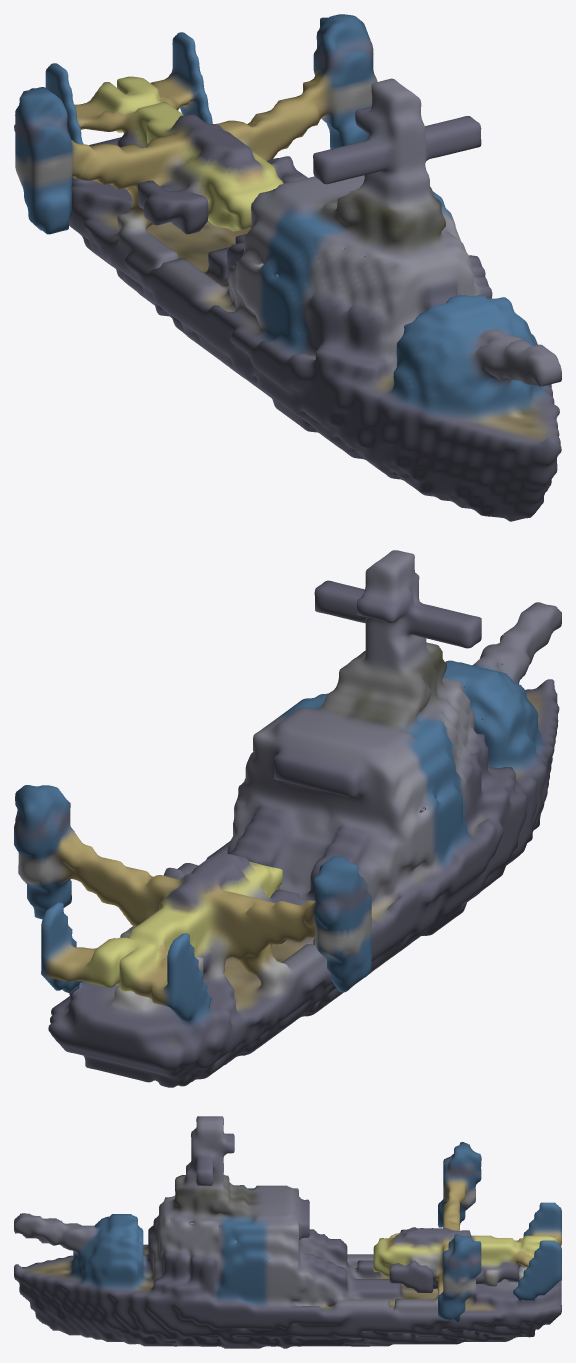
The model's file is dest.glb.
The picture shows the model from 3 angles, top to bottom: view 1: azimuth 30°, elevation 25°; view 2: azimuth 150°, elevation 25°; view 3: azimuth 270°, elevation 25°; orthographic projection. The views are drawn at different scales.
Parts seen in each view (by area): view 1: dest; view 2: dest; view 3: dest.
Part boxes in pixels (bbox=[...]): dest: bbox=[14, 14, 561, 521]; dest: bbox=[14, 550, 561, 1087]; dest: bbox=[14, 1116, 561, 1348].
Size of the model in its own units: 3.79 by 3.58 by 8.47.
